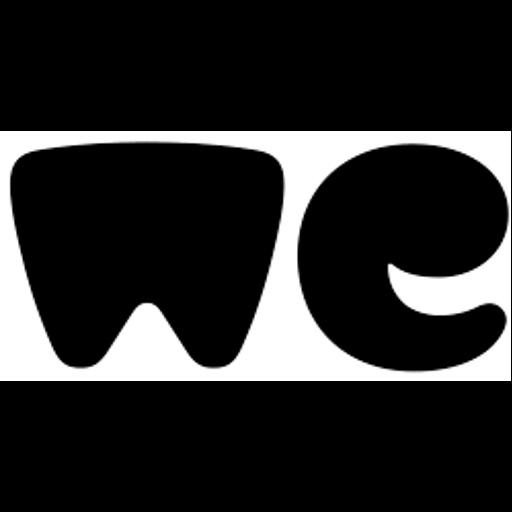WeTransfer: (0, 131, 511, 381)
